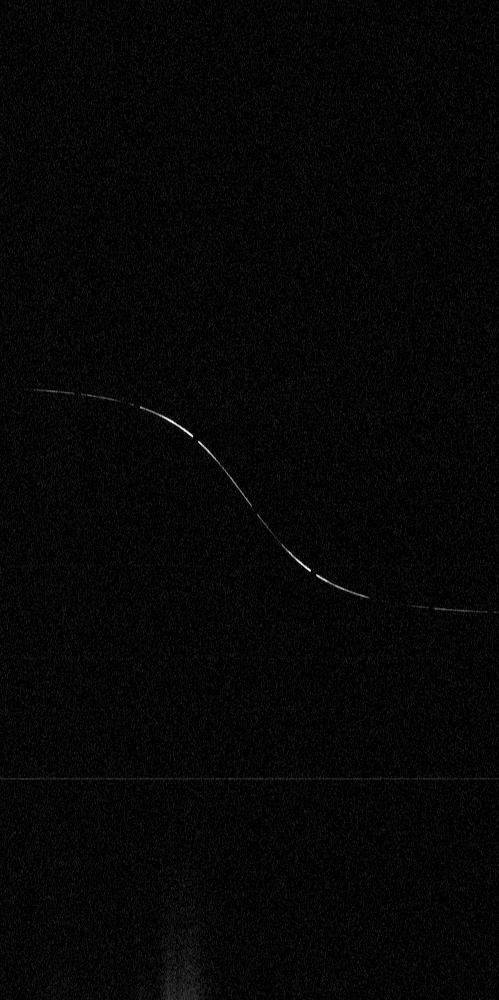signal: (0, 0, 498, 999)
